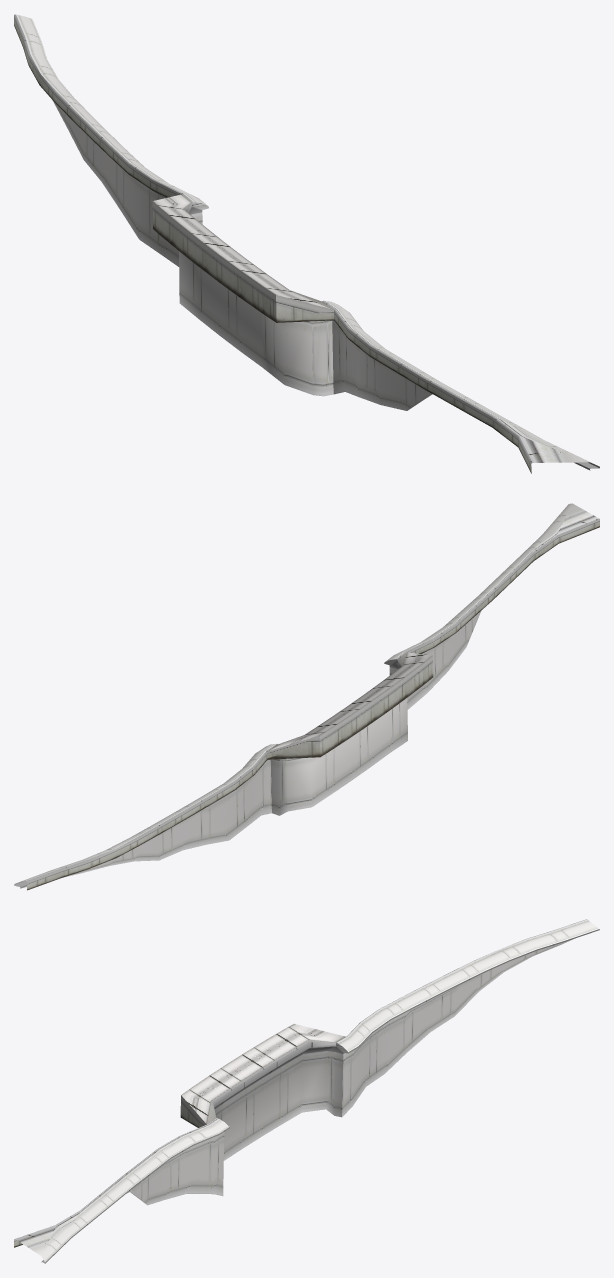
File: sta20_parktrim02.FBX
3 renders of one model, top to bottom at view 1: azimuth 30°, elevation 25°; view 2: azimuth 150°, elevation 25°; view 3: azimuth 330°, elevation 25°, orthographic. The views are drawn at different scales.
Parts seen in each view (by area): view 1: sta20_parktrim02; view 2: sta20_parktrim02; view 3: sta20_parktrim02.
Boxes of the visible parts, x1,y1,x2,y2 form: sta20_parktrim02: (14,14,599,473); sta20_parktrim02: (14,503,599,890); sta20_parktrim02: (14,919,599,1263).
Bounding box in the file's own units: 10.78 × 8.31 × 84.09.
